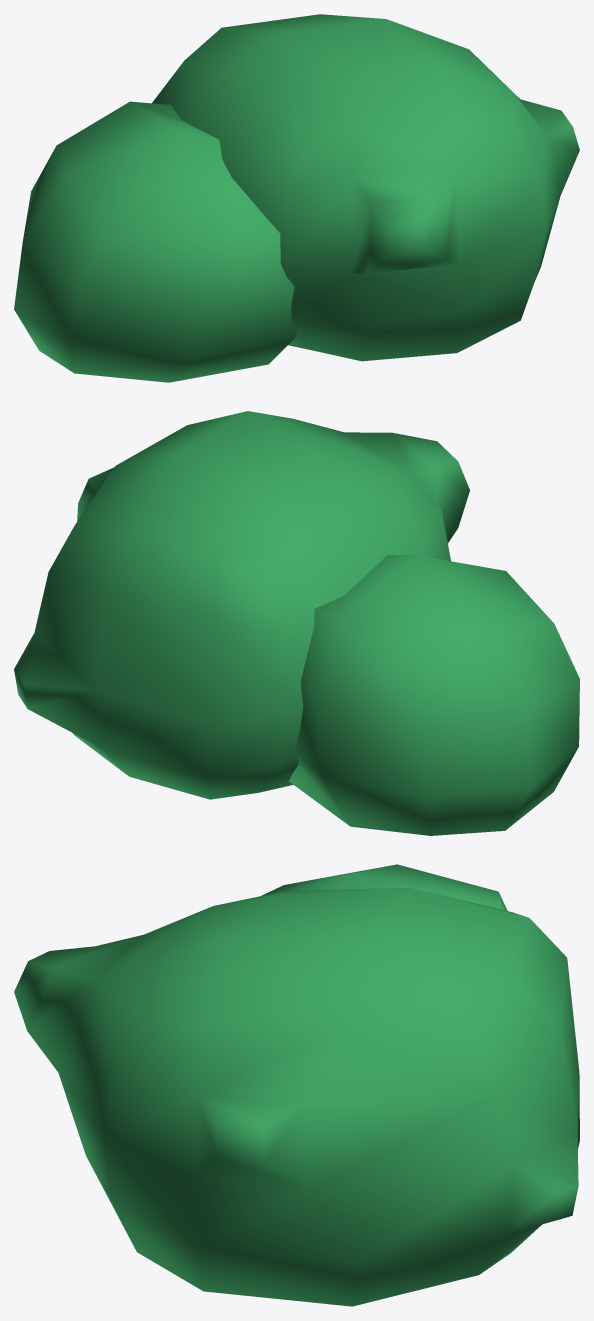
Rendered from Bush_A_03_LOD2.gltf.
3 renders of one model, top to bottom at view 1: azimuth 30°, elevation 25°; view 2: azimuth 150°, elevation 25°; view 3: azimuth 270°, elevation 25°, orthographic. The views are drawn at different scales.
Visible parts, largest first — view 1: Bush_A_03_LOD2_Cube.800; view 2: Bush_A_03_LOD2_Cube.800; view 3: Bush_A_03_LOD2_Cube.800.
Part boxes in pixels (bbox=[...]): Bush_A_03_LOD2_Cube.800: bbox=[14, 14, 579, 382]; Bush_A_03_LOD2_Cube.800: bbox=[14, 411, 579, 835]; Bush_A_03_LOD2_Cube.800: bbox=[14, 864, 579, 1306].
Bounding box in the file's own units: 4.14 × 2.28 × 3.4.
1 material, 1 textured.
